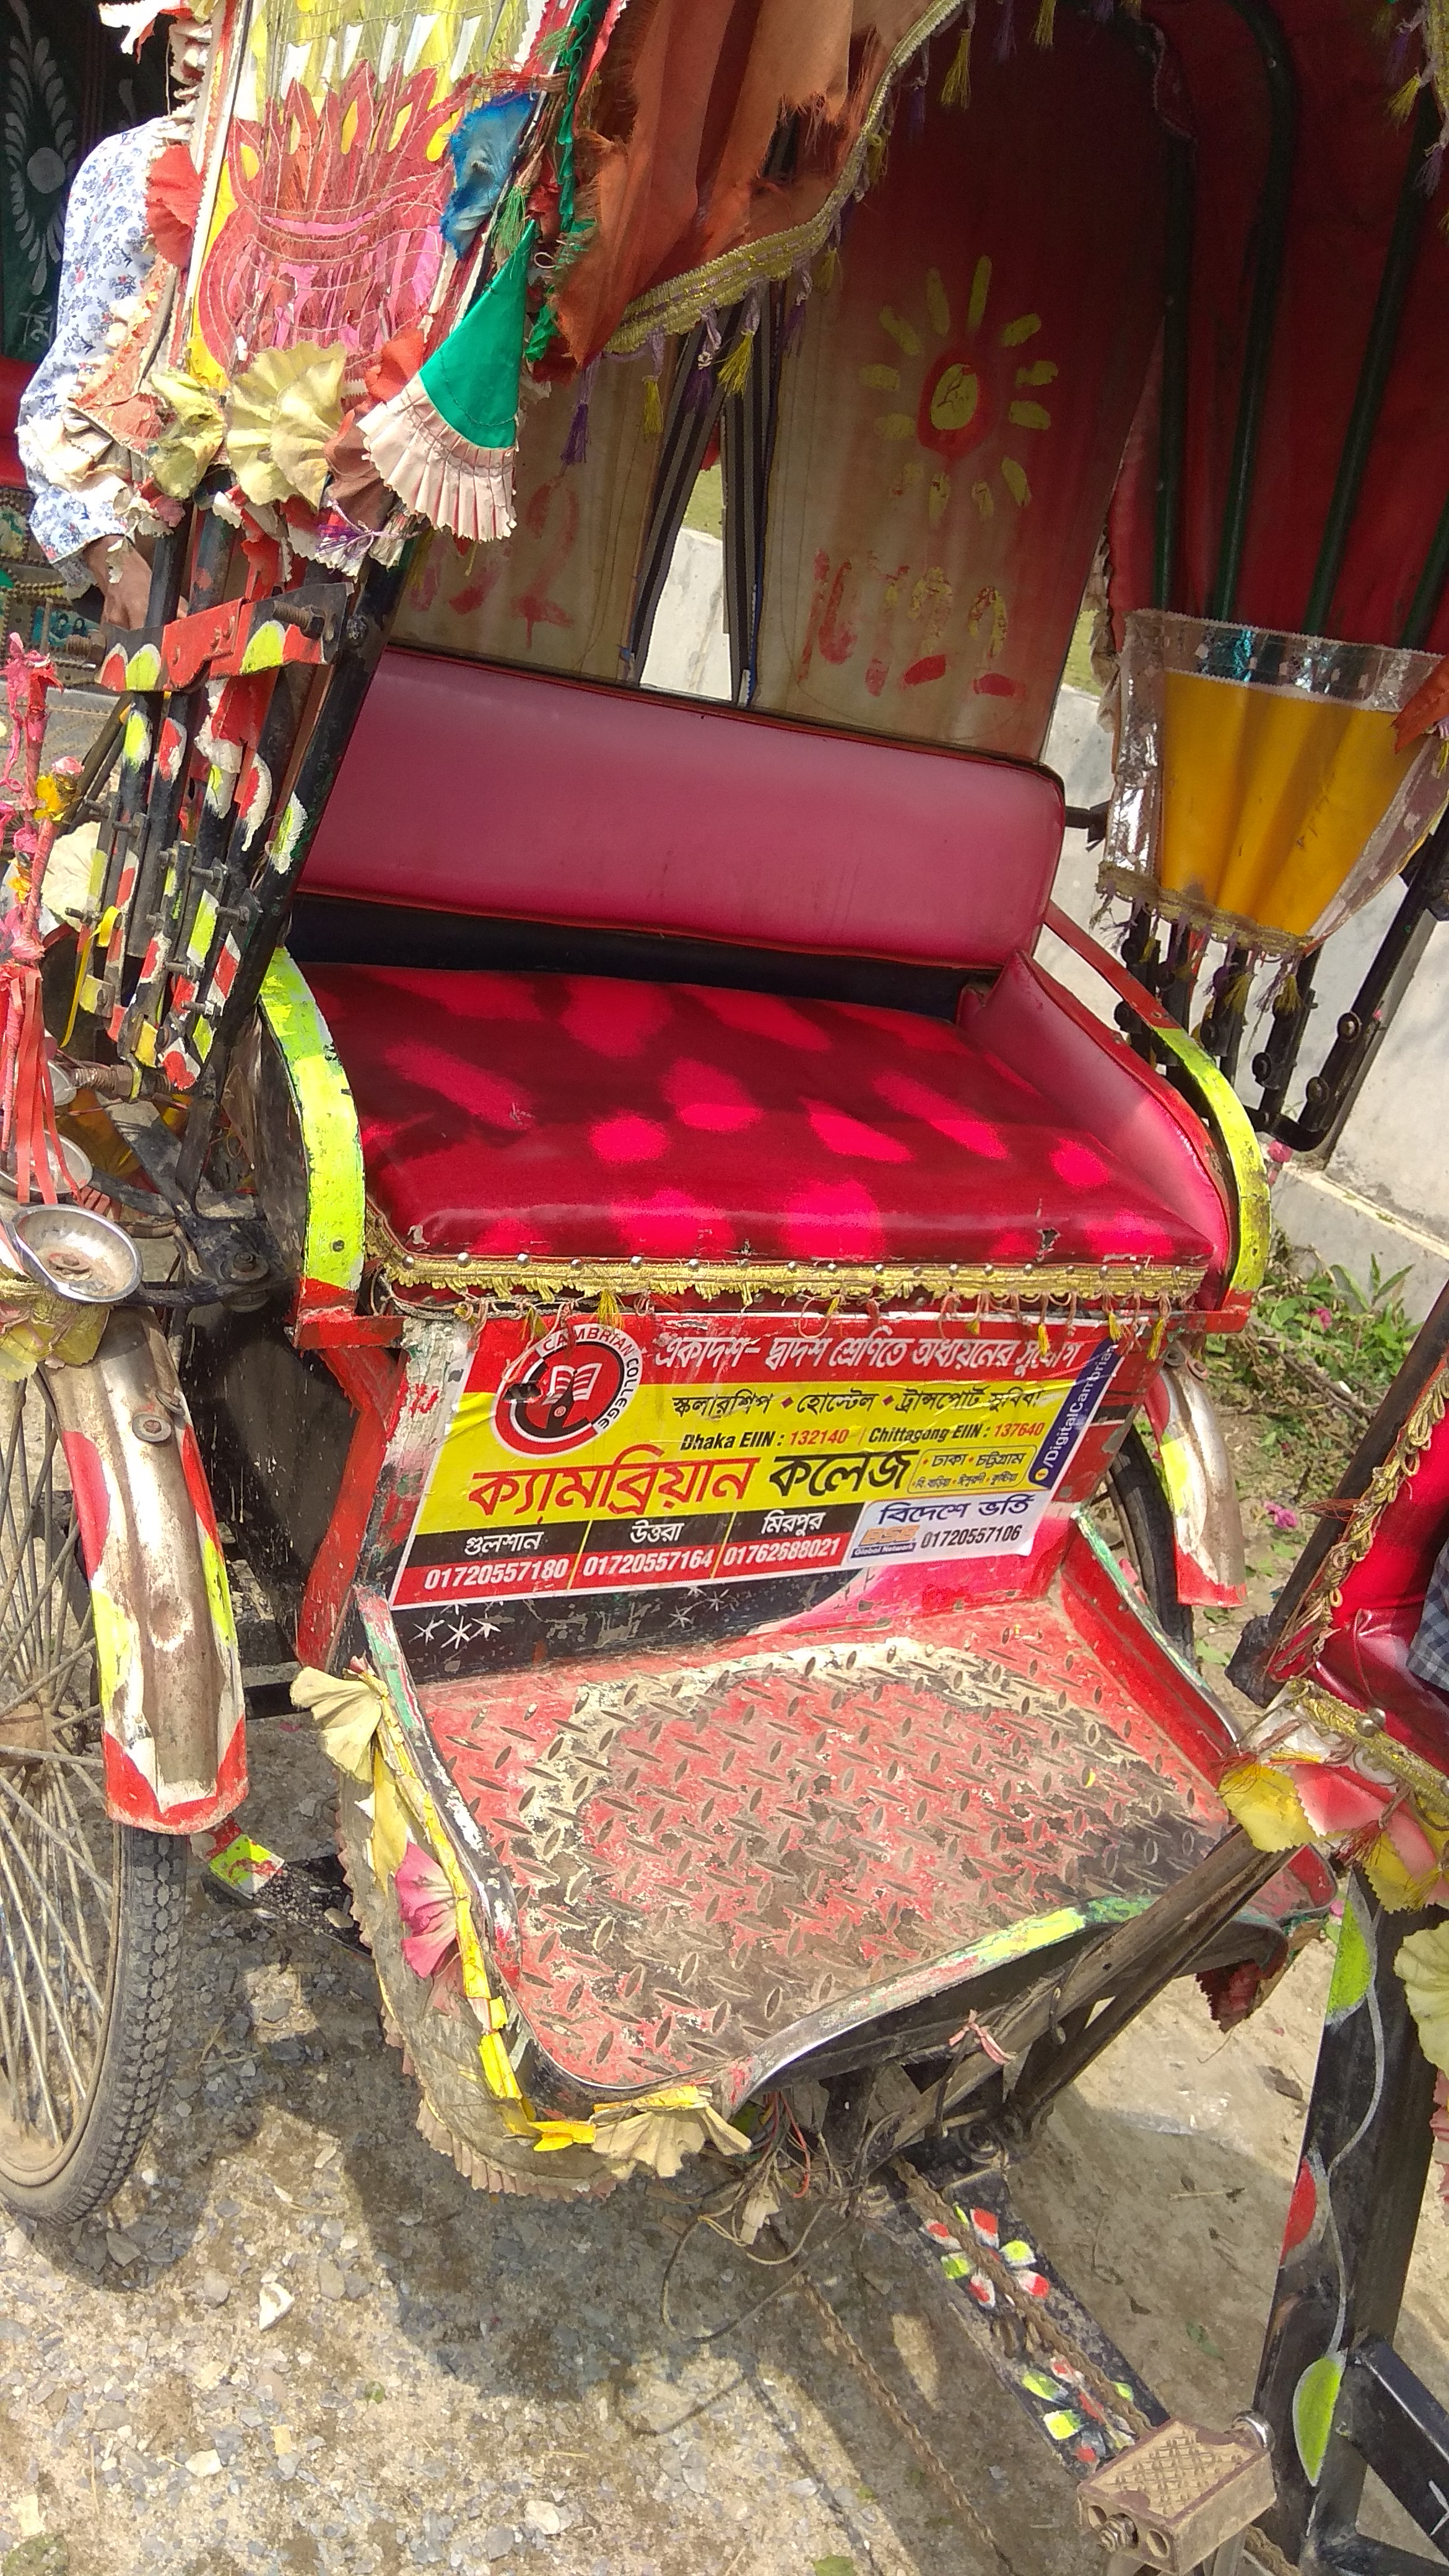Rickshaw: (65, 7, 1424, 2367)
